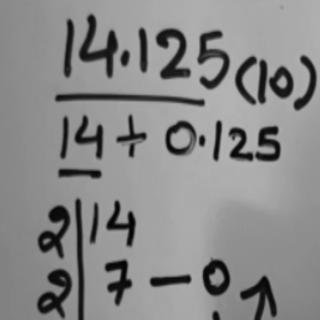.: (118, 49, 132, 67), (197, 132, 207, 149)
0: (163, 119, 198, 158), (201, 256, 232, 297), (268, 65, 294, 100)
1: (61, 17, 76, 79), (135, 26, 151, 75), (58, 114, 71, 162), (256, 58, 269, 105), (88, 201, 101, 244), (211, 119, 223, 163)
2: (154, 26, 193, 80), (36, 204, 71, 260), (36, 267, 73, 319), (227, 125, 255, 164)
4: (79, 12, 120, 79), (104, 199, 143, 248), (73, 114, 108, 161)
5: (196, 29, 232, 91), (255, 125, 283, 164)
7: (101, 259, 135, 308)
